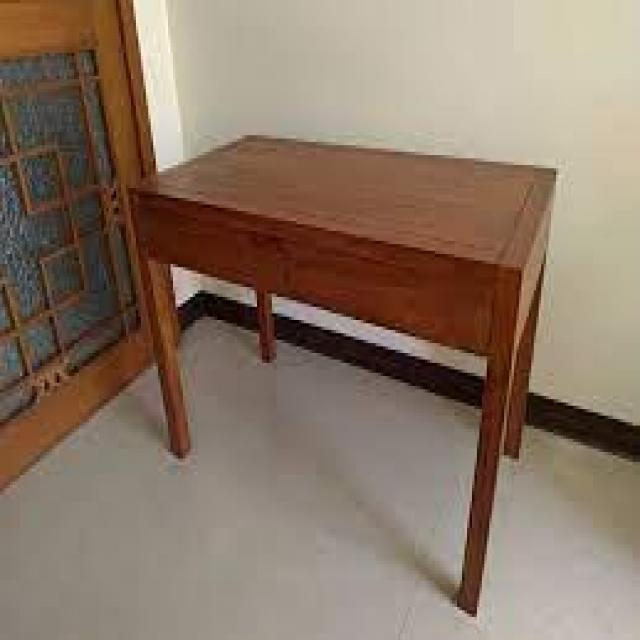table: (122, 74, 574, 500)
